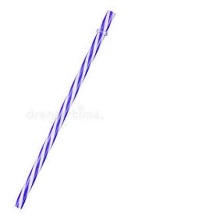drinking_straw: (9, 4, 121, 216)
